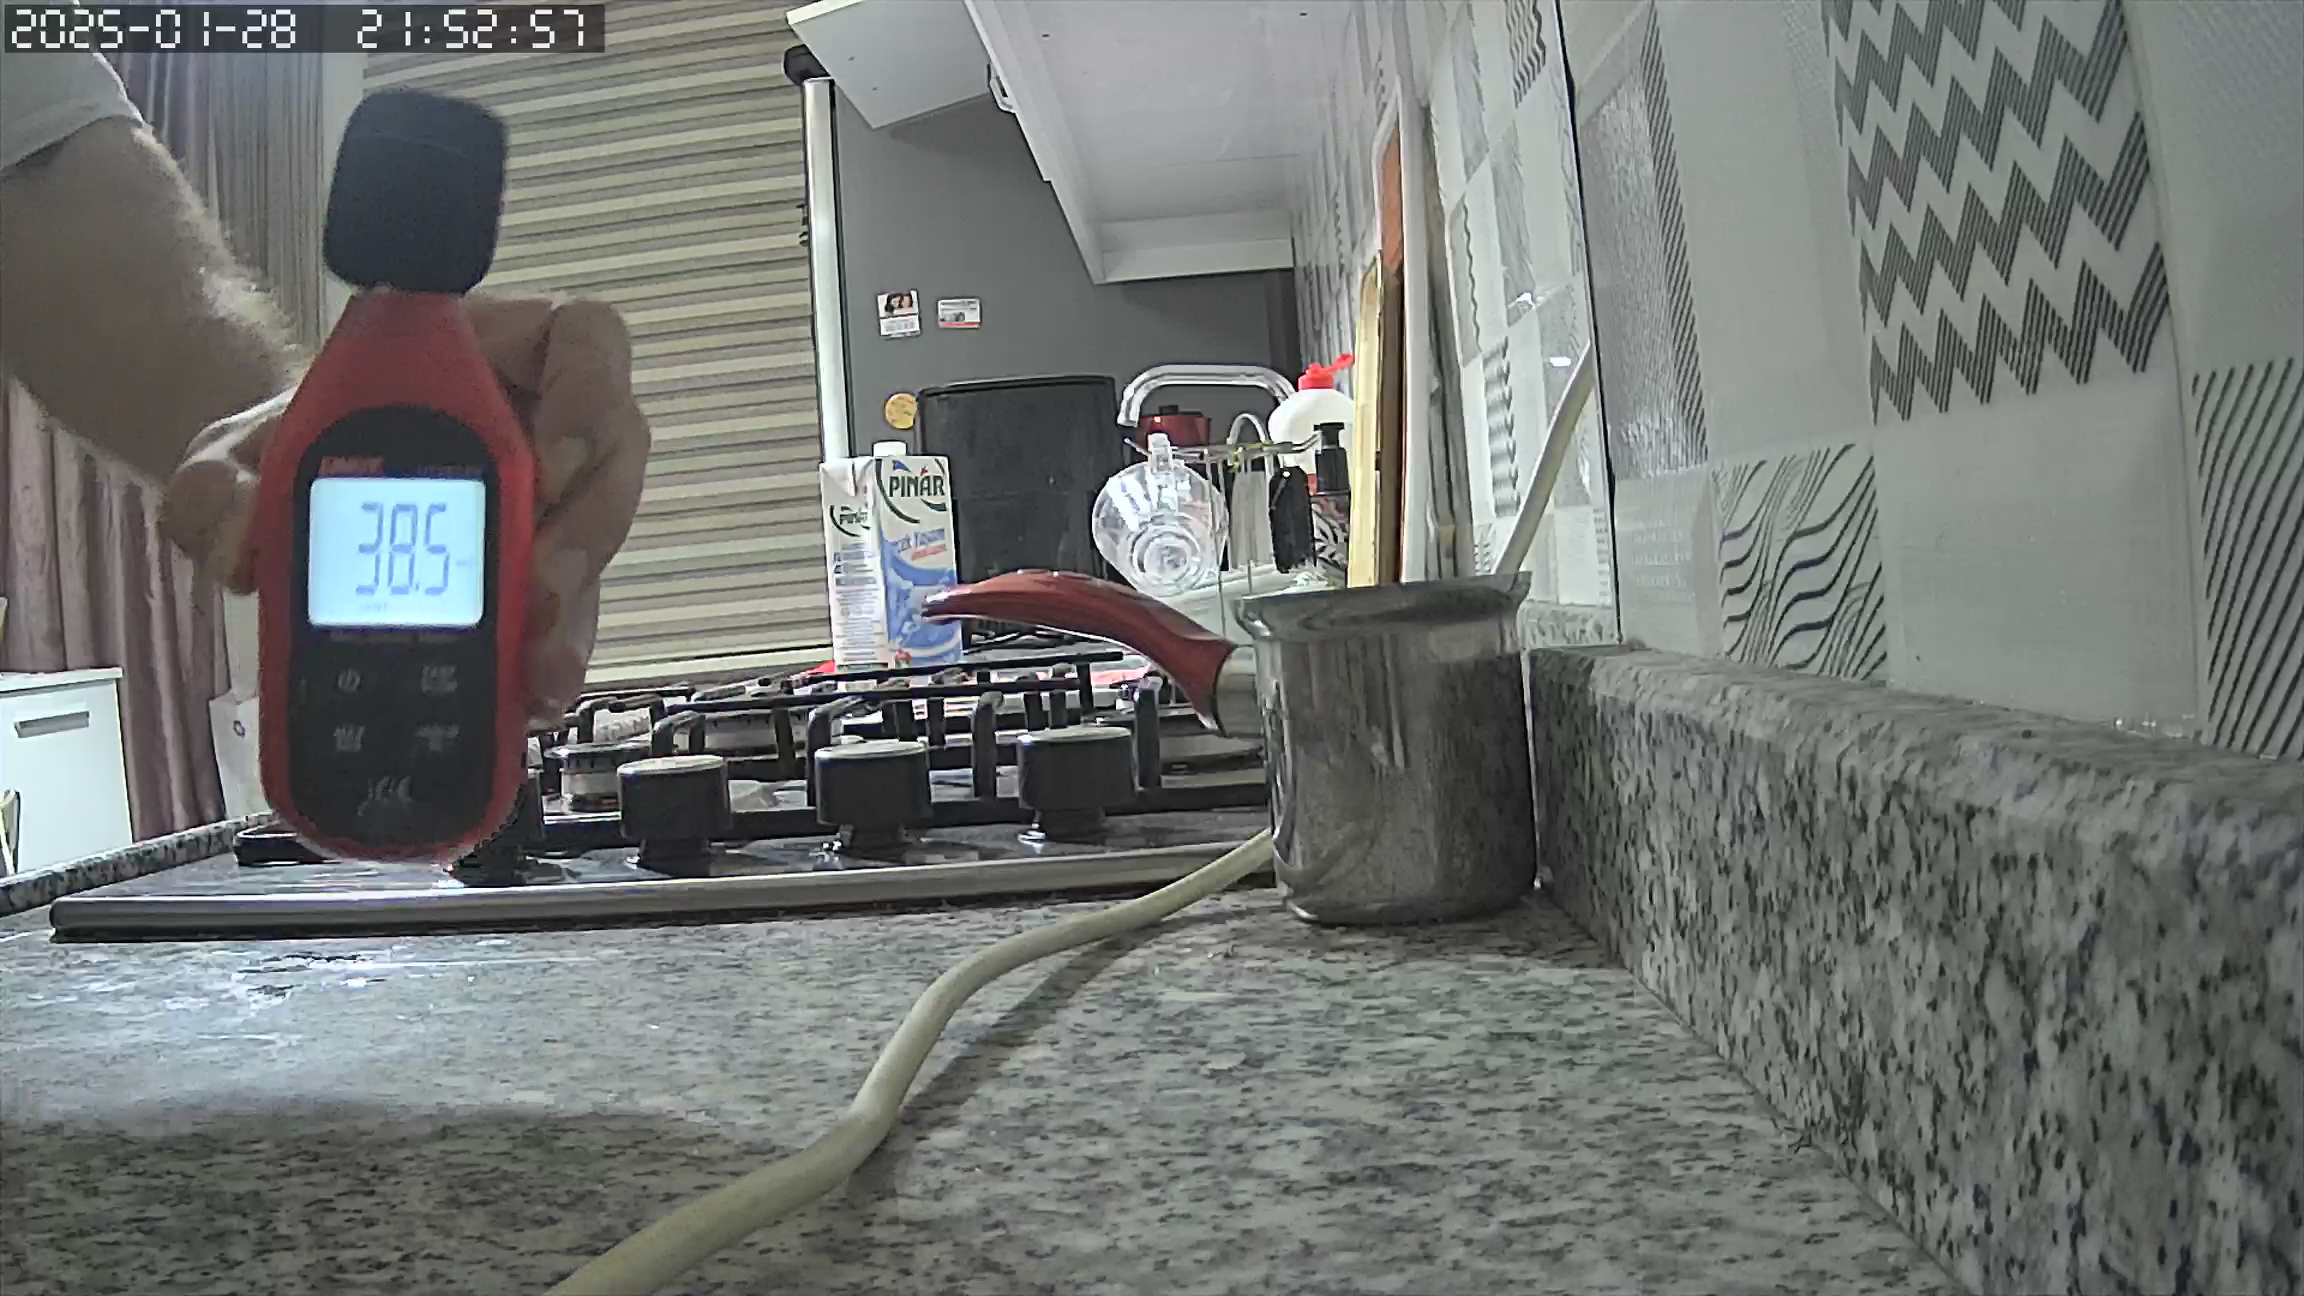screen: (309, 475, 484, 630)
